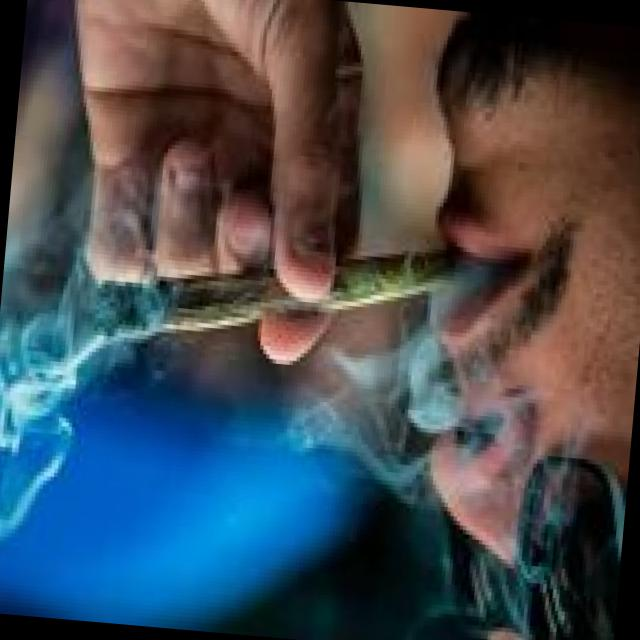smoke: (82, 210, 480, 372)
